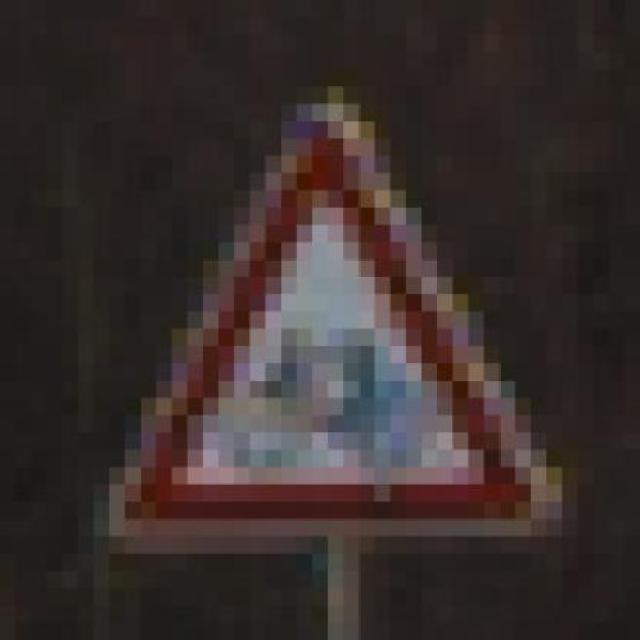CYCLE ROUTE AHEAD WARNING: (108, 69, 578, 554)
